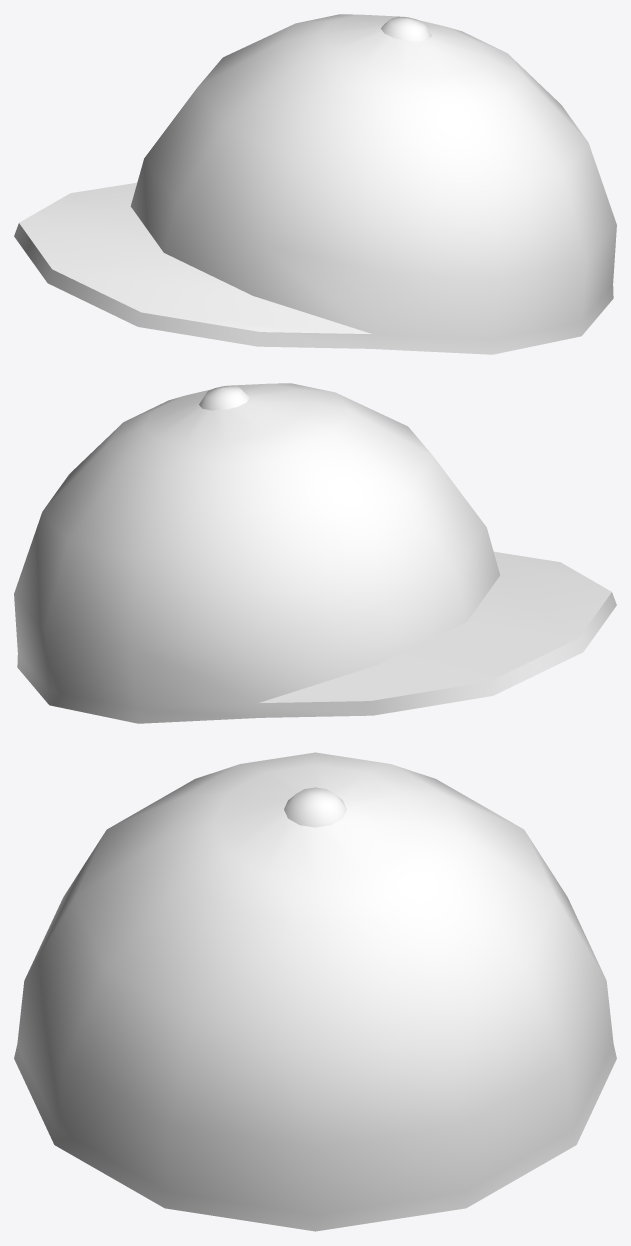
The model's file is snapback.fbx.
3 renders of one model, top to bottom at view 1: azimuth 30°, elevation 25°; view 2: azimuth 150°, elevation 25°; view 3: azimuth 270°, elevation 25°, orthographic. The views are drawn at different scales.
Visible parts, largest first — view 1: Sphere; view 2: Sphere; view 3: Sphere.
Part boxes in pixels (bbox=[...]): Sphere: bbox=[14, 14, 616, 354]; Sphere: bbox=[14, 383, 616, 723]; Sphere: bbox=[14, 752, 616, 1231].
Size of the model in its own units: 125 by 60.95 by 99.85.
